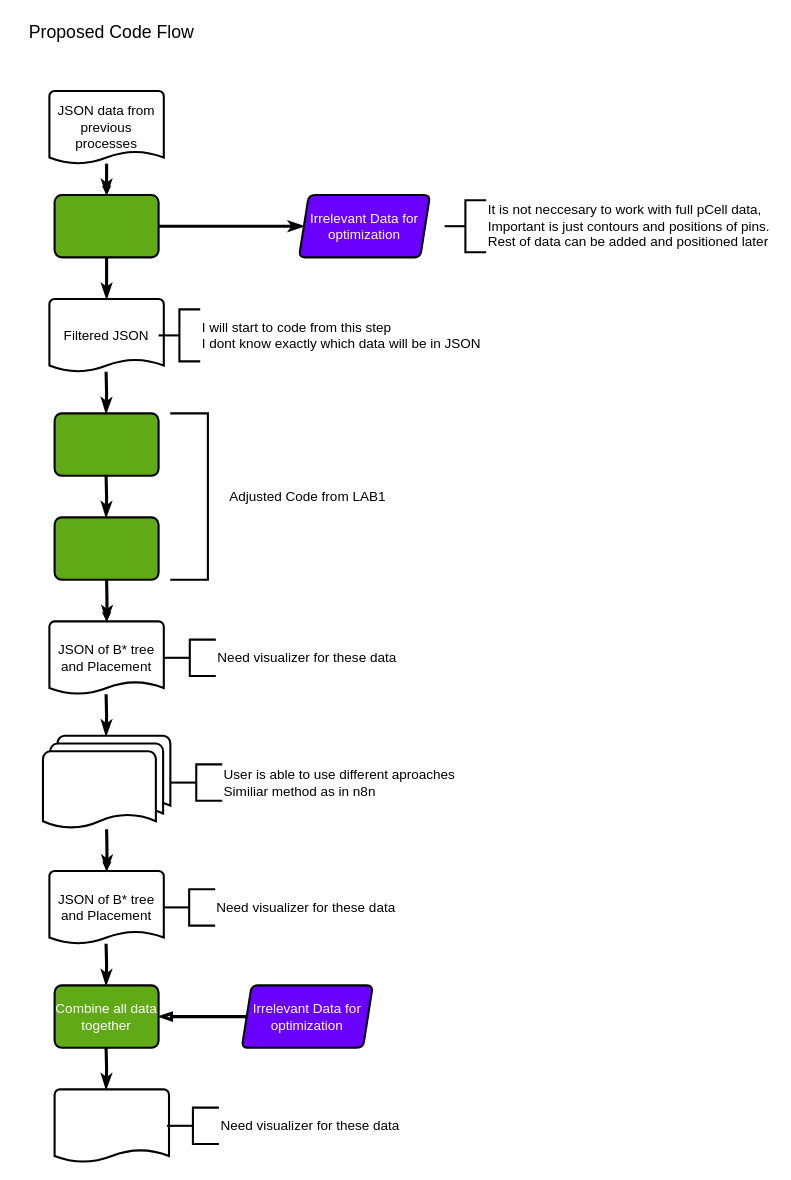
This 791x1180 diagram has some shape labels left out. Each missing label, with the centre of its shape:
Build B* tree: (106,444)
Filtering Input Data: (106,225)
Initial Placement: (106,548)
Optimization Function: (106,782)
Output in JSON: (111,1125)
